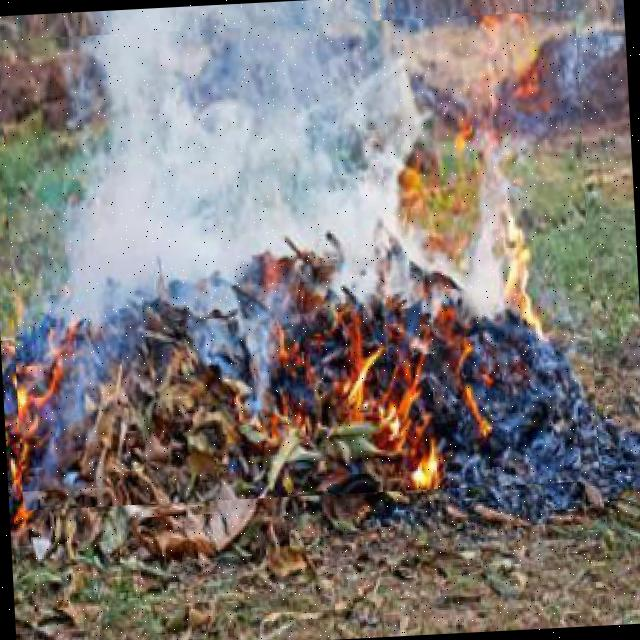fire: (0, 10, 600, 511)
